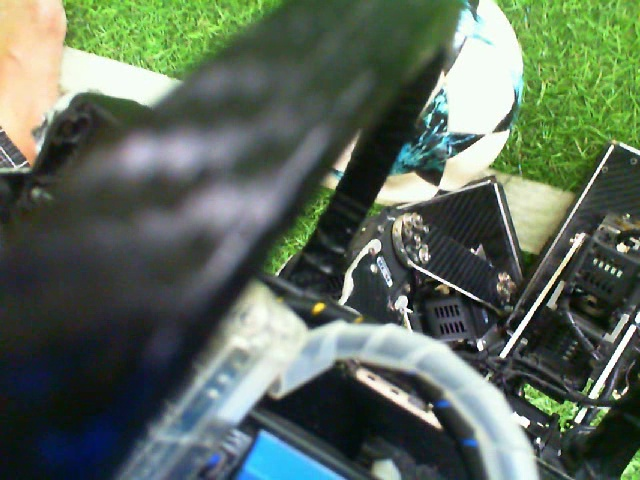ball: (370, 1, 526, 211)
